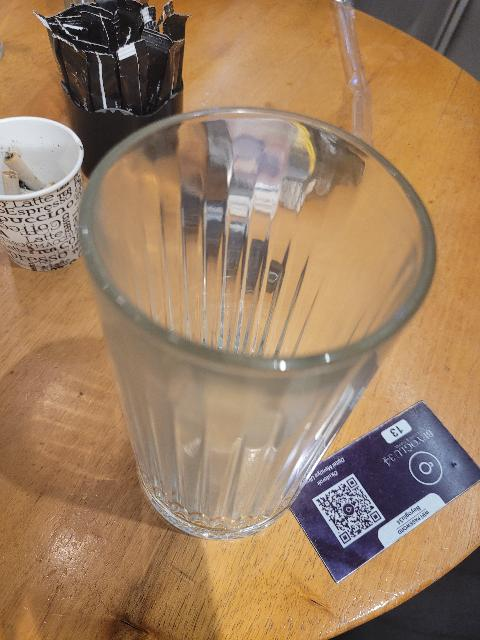Cam: (79, 106, 430, 537)
Kagit: (46, 0, 184, 108), (0, 113, 85, 279)
Plastik: (311, 406, 480, 579), (323, 2, 388, 147)
